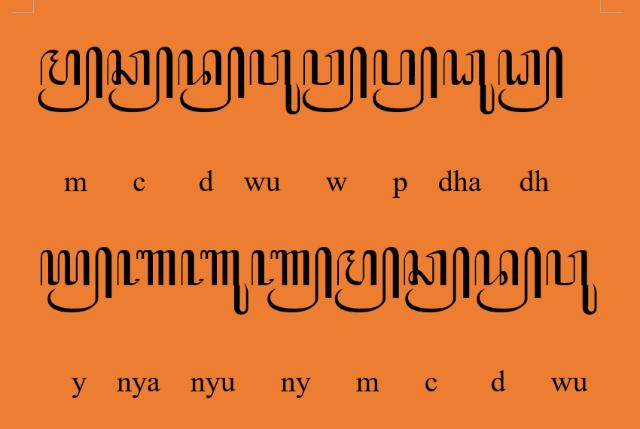-c: (106, 46, 174, 114), (403, 246, 471, 314)
-d: (178, 46, 246, 114), (474, 246, 542, 314)
-dh: (496, 45, 564, 113)
-m: (334, 246, 401, 314), (38, 45, 104, 113)
-ny: (251, 246, 333, 314)
-p: (372, 45, 438, 113)
-w: (301, 45, 367, 113)
-y: (39, 246, 113, 314)
dhu: (442, 48, 496, 116)
ny1: (116, 249, 176, 288)
nyu1: (180, 248, 250, 315)
wu: (248, 48, 302, 116), (546, 248, 598, 316)
